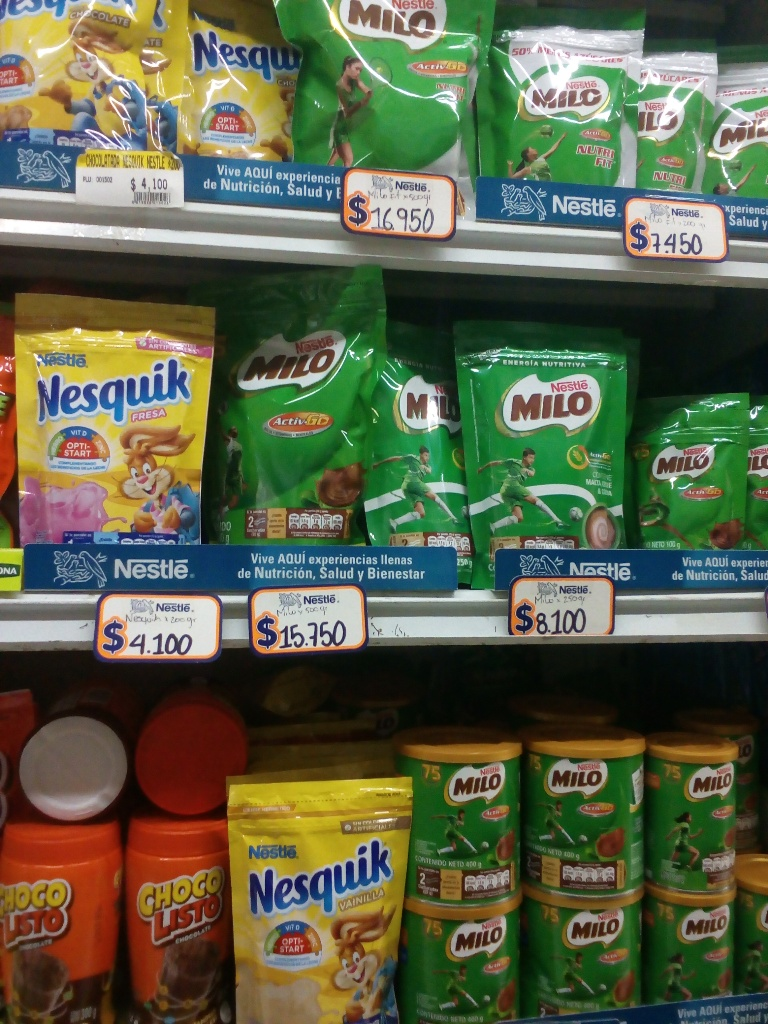COL0170103TRR30000: (123, 812, 234, 1020)
COL0170203DYP10000: (633, 393, 752, 551)
COL0170203DYP25000: (458, 315, 626, 552)
COL0170203DYP50000: (196, 269, 382, 549)
COL0170203LAT20000: (644, 886, 733, 1001)
COL0170203LAT40000: (524, 884, 648, 1009)
COL0170205DYP20000: (638, 28, 714, 200)
COL0170205DYP50000: (284, 4, 482, 185)
COL0170303DYP20000: (182, 0, 293, 160)
COL0170305DYP20000: (10, 292, 214, 549)
COL0170306DYP20000: (227, 780, 408, 1020)
